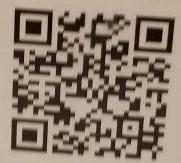qrcode: (11, 8, 176, 162)
